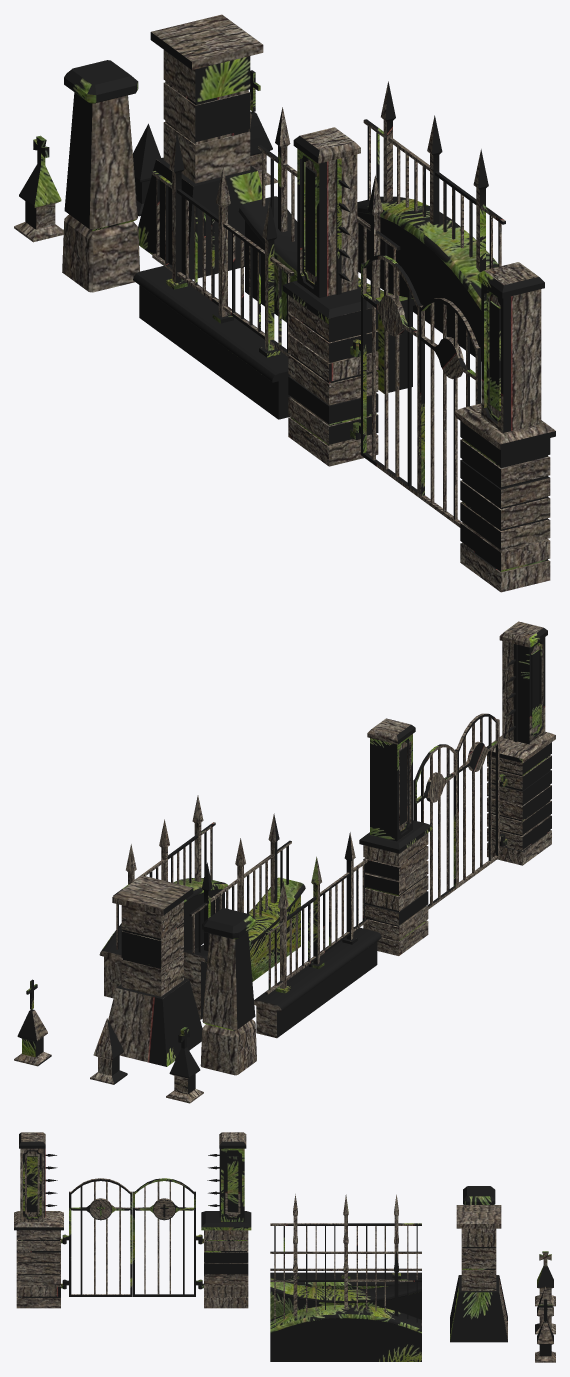
The picture shows the model from 3 angles, top to bottom: view 1: azimuth 30°, elevation 25°; view 2: azimuth 150°, elevation 25°; view 3: azimuth 270°, elevation 25°; orthographic projection. The views are drawn at different scales.
Parts seen in each view (by area): view 1: Main_Gates2 (×2), Fence_Column2.002, Fence1.002 (×2), Fence3.002 (×2), Fence_Column1.002, Fence2.002 (×2), Peak1.002, Peak2.002, Peak3.002; view 2: Main_Gates2 (×2), Fence_Column2.002, Fence1.002 (×2), Fence_Column1.002, Fence2.002 (×2), Fence3.002 (×2), Peak1.002, Peak2.002, Peak3.002; view 3: Main_Gates2 (×2), Fence3.002 (×2), Fence_Column2.002, Fence2.002 (×2), Fence1.002 (×2), Peak3.002, Peak1.002, Fence_Column1.002, Peak2.002.
Part boxes in pixels (x1,y1,x2,y2): Main_Gates2 (×2): [282, 127, 555, 592]; Fence_Column2.002: [138, 14, 263, 279]; Fence1.002 (×2): [133, 133, 294, 419]; Fence3.002 (×2): [357, 81, 505, 361]; Fence_Column1.002: [62, 60, 139, 292]; Fence2.002 (×2): [238, 107, 415, 393]; Peak1.002: [14, 135, 63, 242]; Peak2.002: [133, 123, 160, 216]; Peak3.002: [248, 111, 277, 186]; Main_Gates2 (×2): [359, 621, 555, 955]; Fence_Column2.002: [108, 875, 202, 1066]; Fence1.002 (×2): [254, 832, 381, 1038]; Fence_Column1.002: [200, 908, 256, 1075]; Fence2.002 (×2): [182, 813, 305, 1019]; Fence3.002 (×2): [99, 795, 227, 998]; Peak1.002: [166, 1027, 203, 1103]; Peak2.002: [90, 1018, 127, 1084]; Peak3.002: [14, 1009, 51, 1066]; Main_Gates2 (×2): [14, 1132, 251, 1308]; Fence3.002 (×2): [270, 1250, 421, 1361]; Fence_Column2.002: [450, 1205, 507, 1342]; Fence2.002 (×2): [270, 1222, 421, 1319]; Fence1.002 (×2): [270, 1194, 421, 1289]; Peak3.002: [535, 1321, 555, 1362]; Peak1.002: [535, 1251, 555, 1306]; Fence_Column1.002: [463, 1186, 495, 1204]; Peak2.002: [535, 1286, 555, 1334].
Size of the model in its own units: 3.33 by 3.7 by 11.03.
